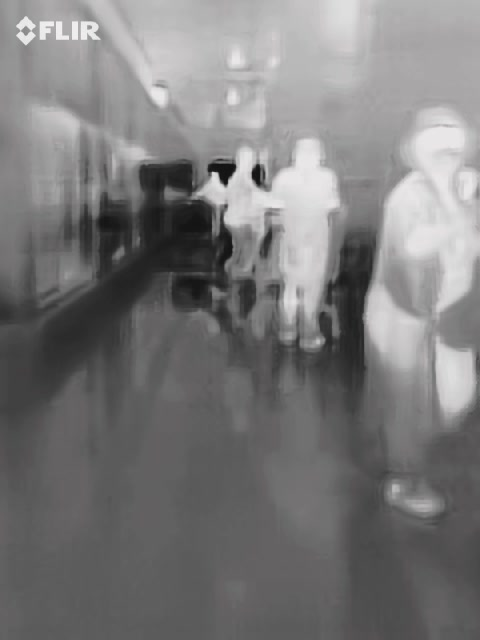head: (407, 105, 469, 178)
